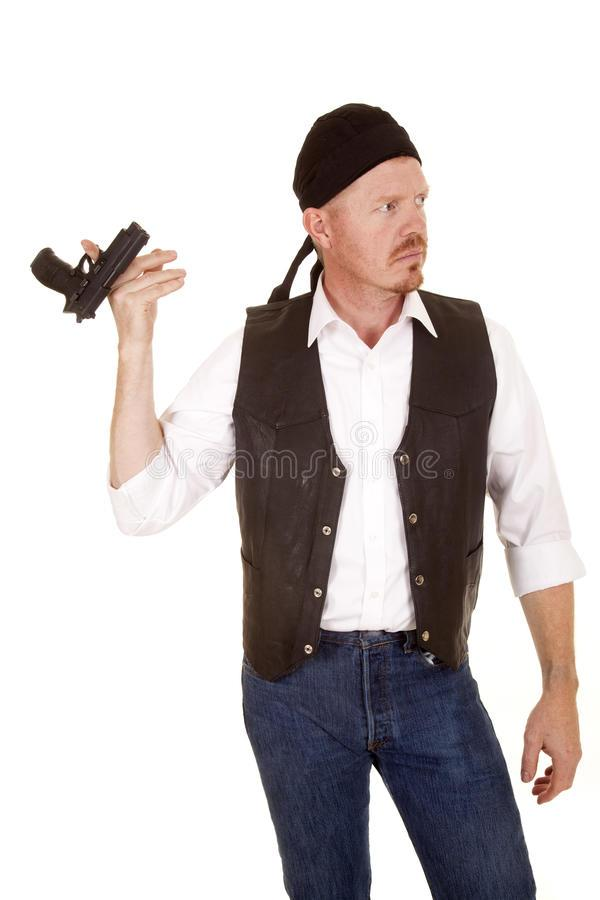criminal: (24, 94, 584, 900)
weapon: (23, 212, 156, 330)
